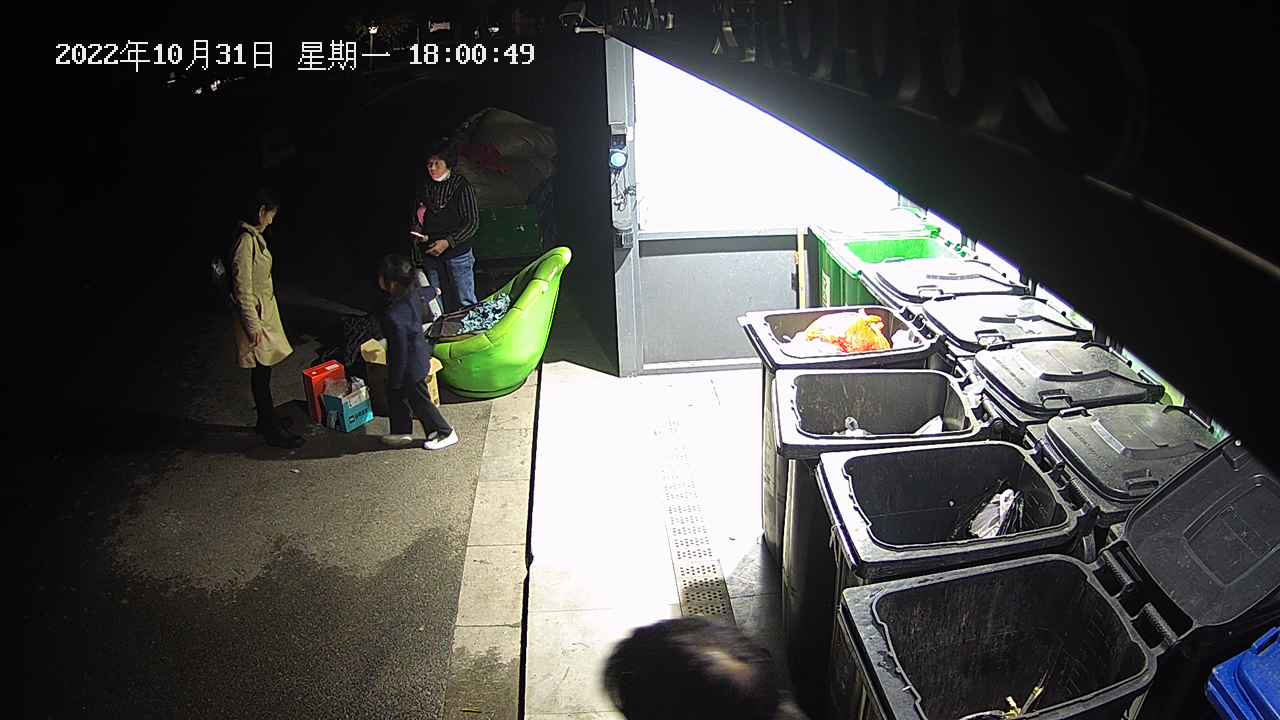person: (598, 614, 808, 720), (212, 192, 295, 434), (374, 250, 460, 450), (409, 143, 480, 304)
zhizhipin: (301, 357, 375, 435)
